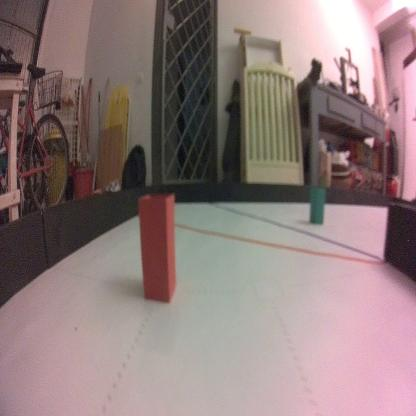green: (308, 185, 326, 226)
red: (137, 194, 177, 304)
